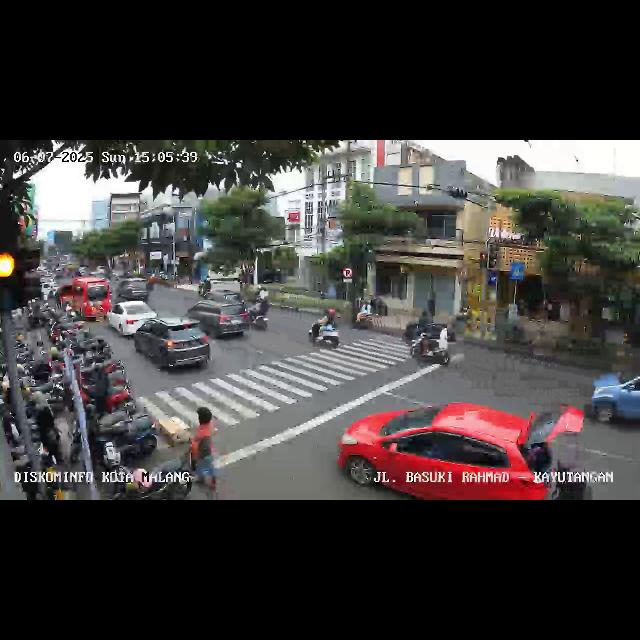car: (337, 402, 575, 500), (133, 318, 219, 379), (588, 364, 640, 434), (185, 298, 251, 340), (56, 276, 110, 322), (106, 300, 158, 338), (114, 278, 152, 302), (203, 292, 244, 308)
motorcycle: (407, 310, 455, 366), (308, 308, 340, 352), (250, 292, 272, 332), (354, 300, 376, 334)
person: (186, 408, 222, 496)
